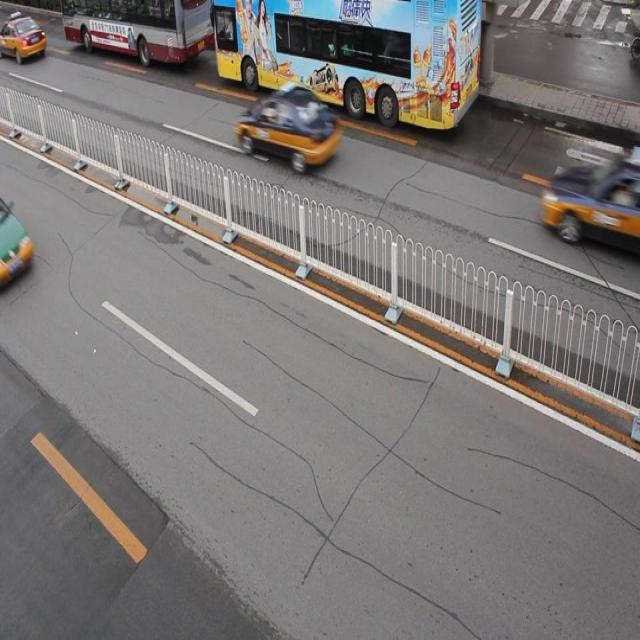car: (543, 159, 640, 252), (238, 88, 339, 170), (1, 201, 33, 292), (1, 12, 47, 64)
van: (213, 1, 479, 129), (61, 1, 217, 64)
